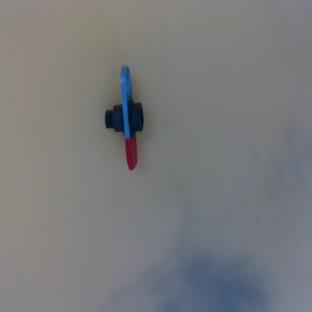part_1_good: (103, 64, 144, 170)
